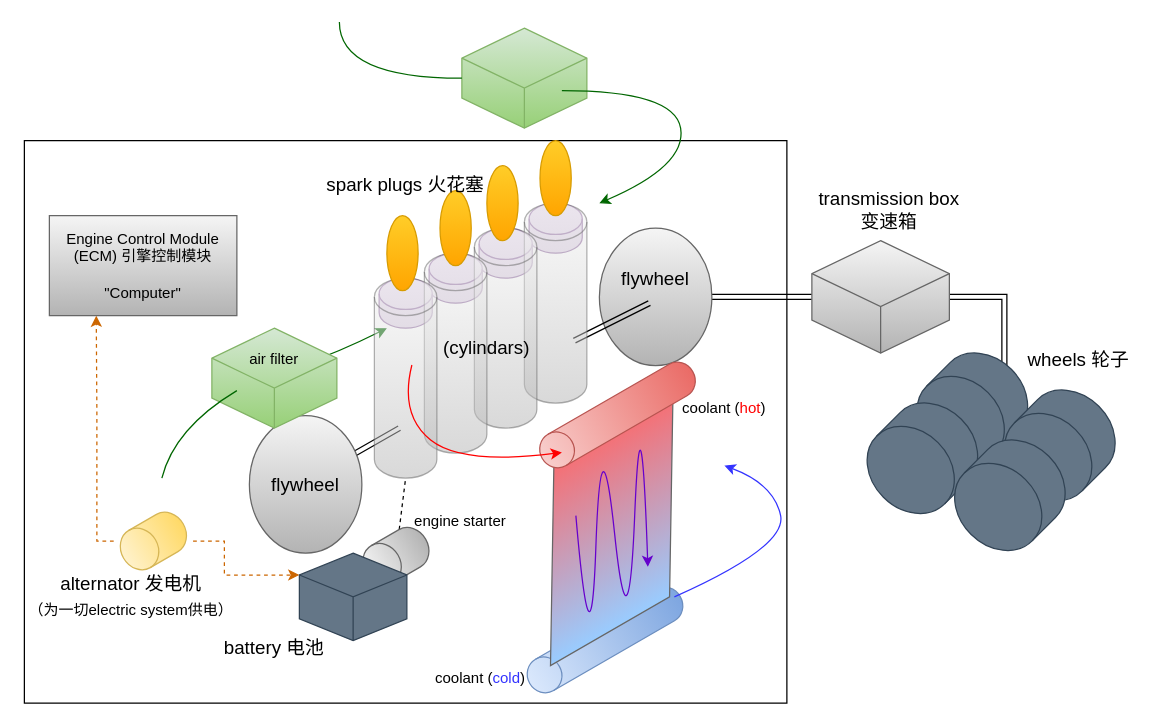
Image size: 1159x725. Some labels were removed from this diagram. Here are the shapes that lost their labels. From the top down, the box of each, then its label:
(461, 27, 587, 128): fuel filter
(23, 139, 787, 703): (Under the hood)
(455, 377, 767, 666): radiator 散热器
